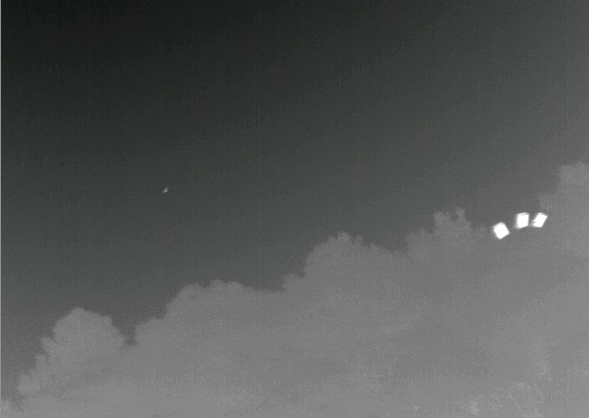dim target: (161, 186, 169, 194)
